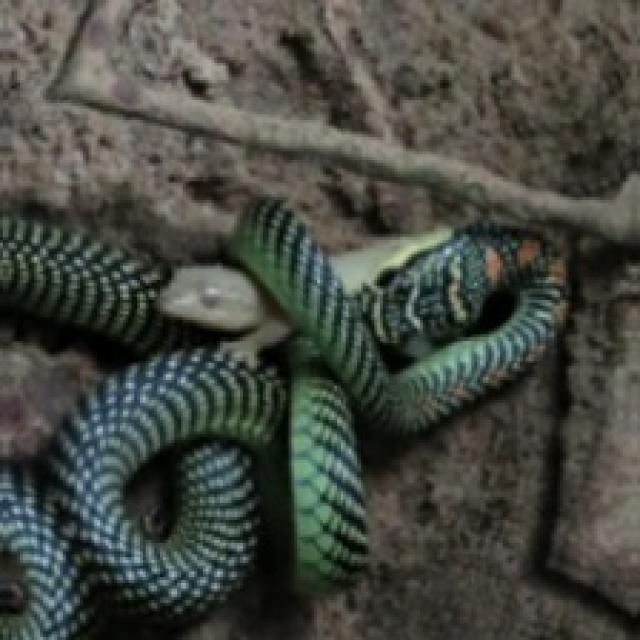paradise tree snake: (0, 200, 563, 637)
